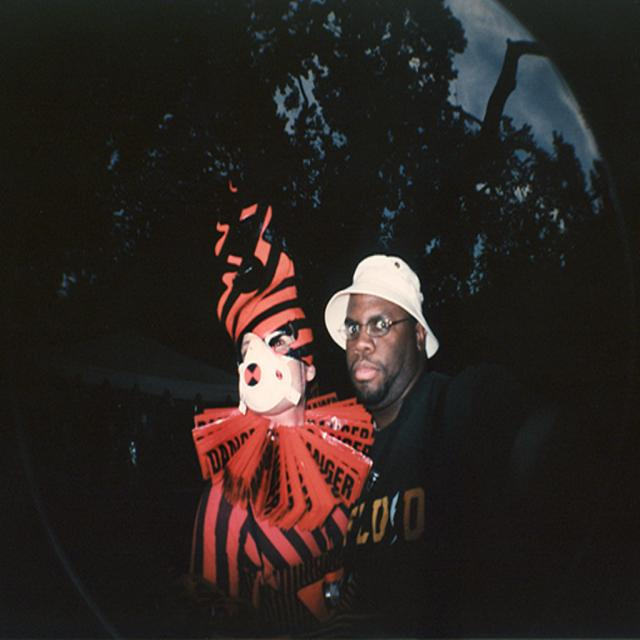Hat: (322, 257, 437, 358)
